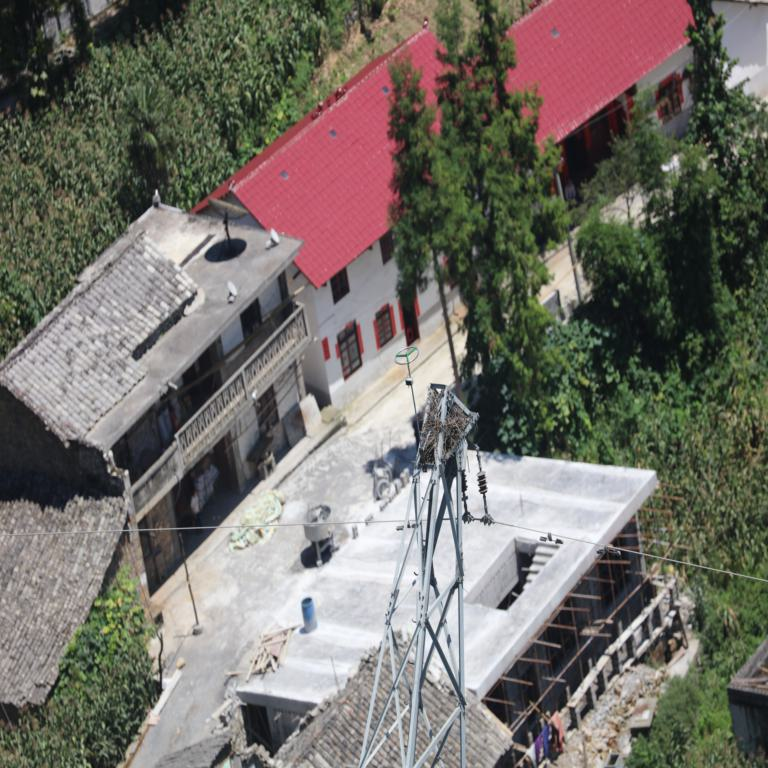nest: (421, 394, 468, 461)
